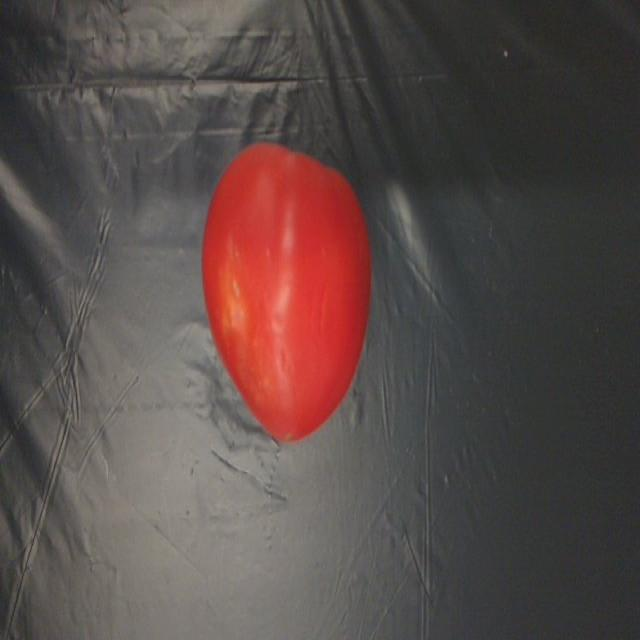kirmizi: (205, 141, 378, 455)
